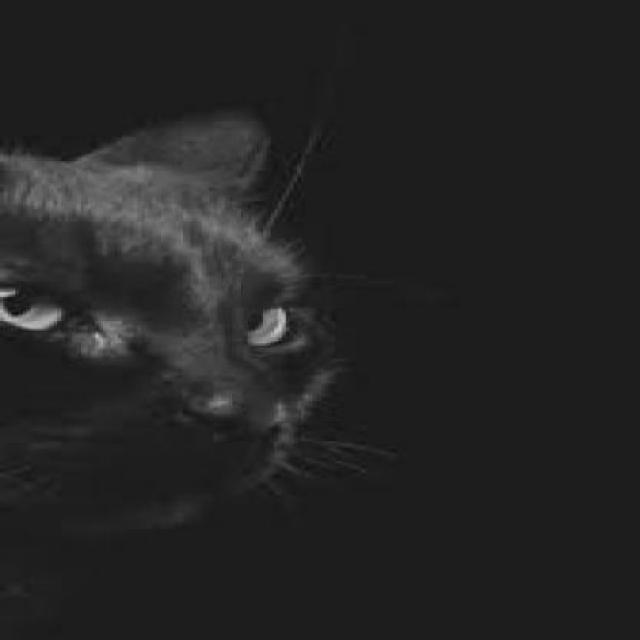animals: (4, 104, 373, 565)
